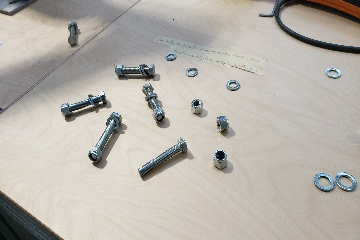Bolt: (136, 135, 189, 182)
FalseAssembly: (86, 111, 123, 164), (59, 90, 109, 119), (66, 19, 80, 49)
FinishedAssembly: (139, 83, 170, 123), (114, 64, 159, 80)
Nut: (212, 148, 230, 172), (214, 115, 230, 133), (189, 98, 204, 114)
Washer: (313, 170, 335, 194), (334, 171, 357, 193), (324, 66, 343, 80), (224, 79, 242, 93), (183, 67, 201, 79), (163, 52, 177, 62)
